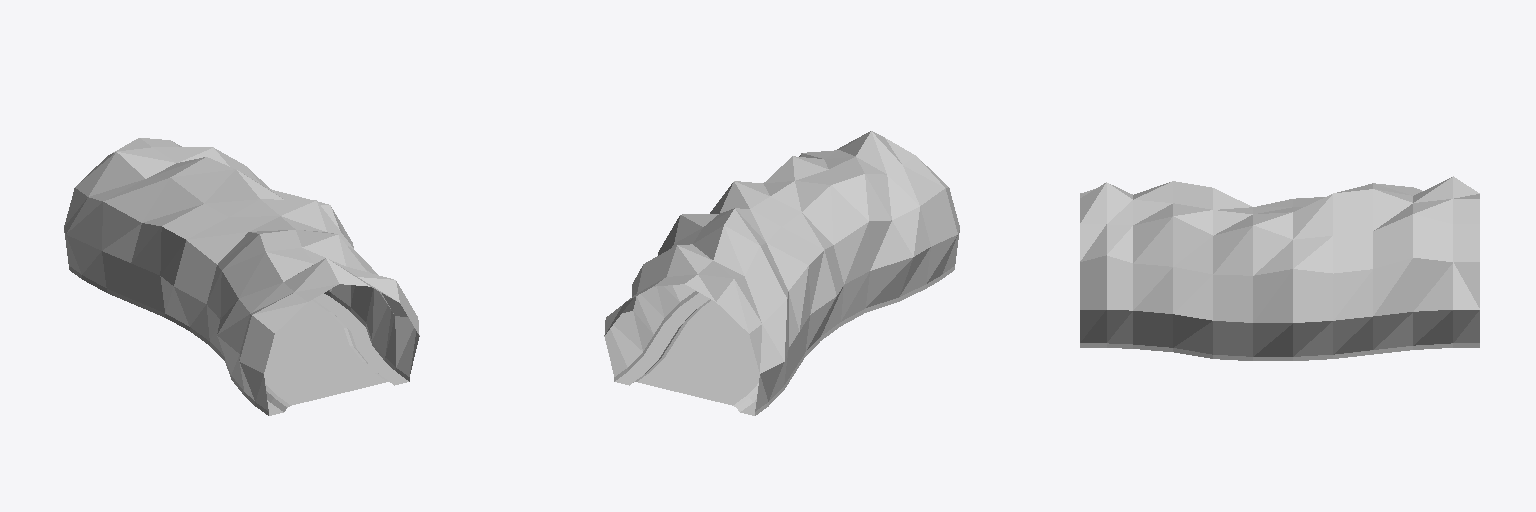
The model's file is HellBowlingStraightB.obj.
3 views of the same model, side by side, from view 1: azimuth 30°, elevation 25°; view 2: azimuth 150°, elevation 25°; view 3: azimuth 270°, elevation 25° (orthographic).
Parts seen in each view (by area): view 1: StraightB_Collision_Circle.008; view 2: StraightB_Collision_Circle.008; view 3: StraightB_Collision_Circle.008.
Part boxes in pixels (x1,y1,x2,y2): StraightB_Collision_Circle.008: (64, 138, 419, 415); StraightB_Collision_Circle.008: (604, 131, 959, 415); StraightB_Collision_Circle.008: (1080, 176, 1479, 360).
Bounding box in the file's own units: 1788 × 1087 × 3000.